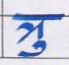u_matra: (14, 39, 49, 56)
